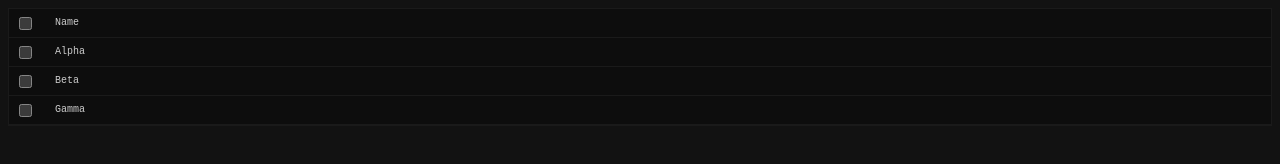
Scenario: DataGrid bulk actions › renders bulk actions when rows are selected
Note: First checkbox is "select all", skip it
Click the checkbox named "Select row 1": (26, 52) x1=19 y1=46 x2=32 y2=58
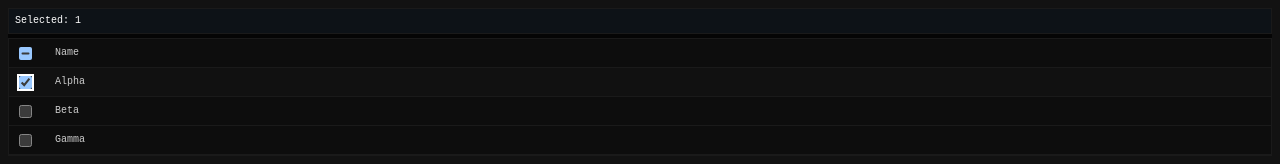
Now the text with test id "bulk" reads "Selected: 1", box x1=15 y1=13 x2=81 y2=29
